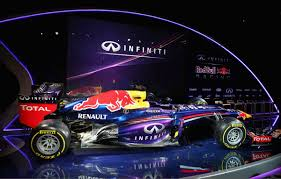FormulaOneCar: (16, 76, 252, 166)
